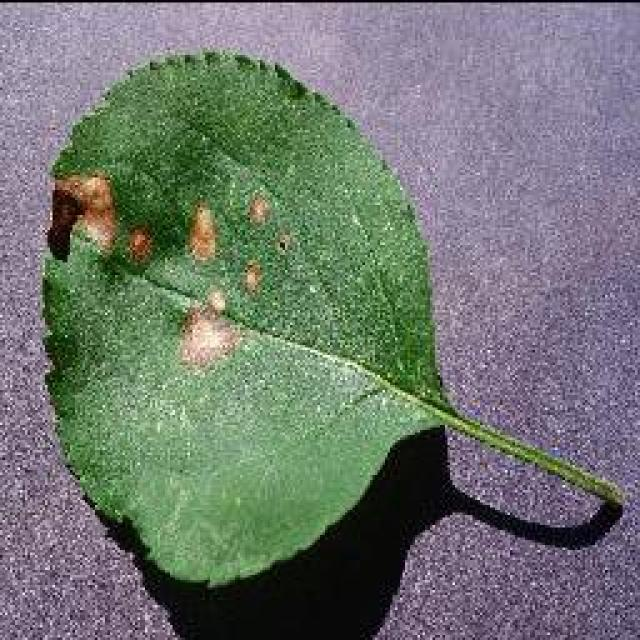Black_rot: (37, 45, 625, 590)
